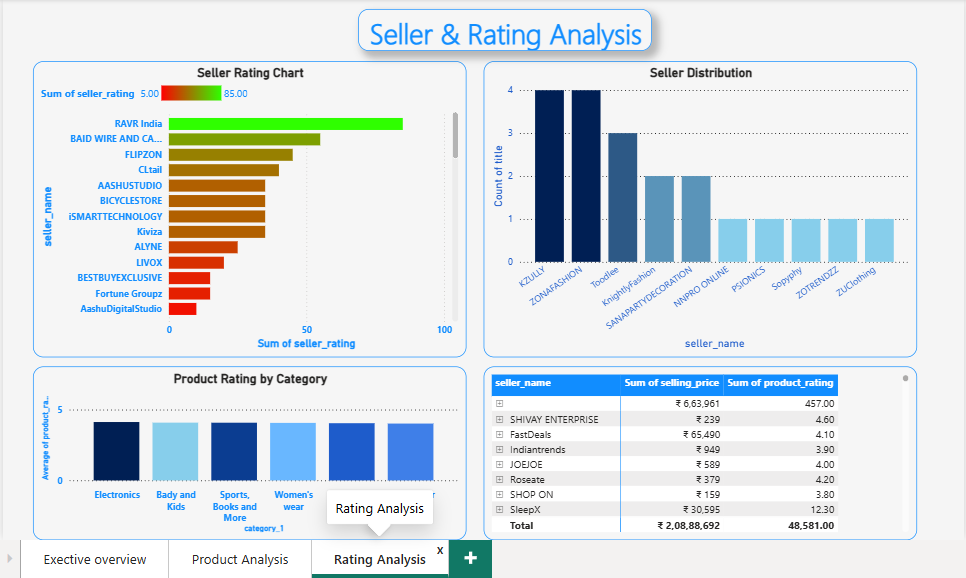

What the dashboard file says about the page in this screenshot:
{"tool":"powerbi","page":{"name":"Page 3","canvas":[1280,720],"ordinal":2},"visuals":[{"type":"clusteredBarChart","title":"Seller Rating Chart","fields":{"Category":["dataset.seller_name"],"Y":["Sum(dataset.seller_rating)"]},"box":[40.3,82.3,577.8,394.8],"z":0},{"type":"clusteredColumnChart","title":"Product Rating by Category","fields":{"Category":["dataset.category_1"],"Y":["Avg(dataset.product_rating)"]},"box":[40.3,488.8,577.8,231.8],"z":1000},{"type":"columnChart","title":"Seller Distribution","fields":{"Category":["dataset.seller_name"],"Y":["CountNonNull(dataset.title)"]},"box":[640,82.3,577.8,394.8],"z":2000},{"type":"pivotTable","fields":{"Rows":["dataset.seller_name","dataset.category_1","dataset.title"],"Values":["Sum(dataset.selling_price)","Sum(dataset.product_rating)"]},"box":[640,488.8,577.8,231.8],"z":3000},{"type":"textbox","title":"Seller & Rating Analysis","box":[473.7,13.4,391.4,55.4],"z":4000}]}

Visuals, with their boxes on the page's 1280x720 design canvas (x1, y1, x2, y2). These are canvas units, not pixel positions in the 966x578 screenshot, which may show the page scaled, cropped or inside an application window:
"Seller Rating Chart" clusteredBarChart: (40,82,618,477)
"Product Rating by Category" clusteredColumnChart: (40,489,618,721)
"Seller Distribution" columnChart: (640,82,1218,477)
pivotTable - dataset.seller_name x dataset.category_1: (640,489,1218,721)
"Seller & Rating Analysis" textbox: (474,13,865,69)
